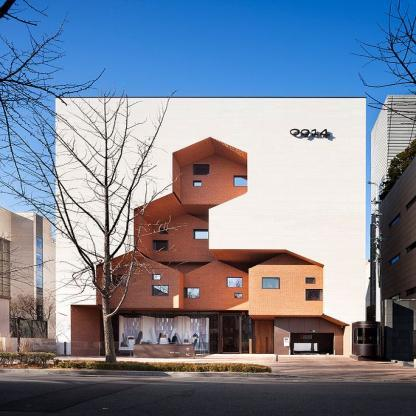Building Outline: (56, 97, 365, 356)
Deco: (290, 128, 330, 138)
Dont: (0, 0, 190, 361), (352, 321, 381, 356), (134, 345, 195, 358)
Door: (290, 333, 335, 355), (220, 314, 241, 354)
Facade: (56, 97, 365, 356)
Floor: (56, 153, 365, 209), (56, 213, 365, 258), (56, 261, 365, 304)
Floor Slab: (56, 149, 365, 153), (56, 209, 365, 213), (56, 258, 365, 261), (56, 304, 365, 307)
Glass Wall: (101, 311, 255, 354)
Ground Floor: (56, 307, 365, 356)
Top Floor: (56, 98, 365, 150)
Window: (306, 289, 323, 301), (263, 277, 280, 289), (194, 164, 210, 175), (153, 286, 169, 297), (184, 288, 200, 298), (193, 229, 208, 239), (154, 240, 169, 250), (227, 277, 242, 287), (112, 275, 126, 285), (234, 176, 247, 186), (306, 277, 316, 284), (194, 180, 202, 186), (160, 228, 168, 234), (153, 274, 161, 280), (236, 293, 244, 298)
Window Hole: (71, 137, 350, 355)
